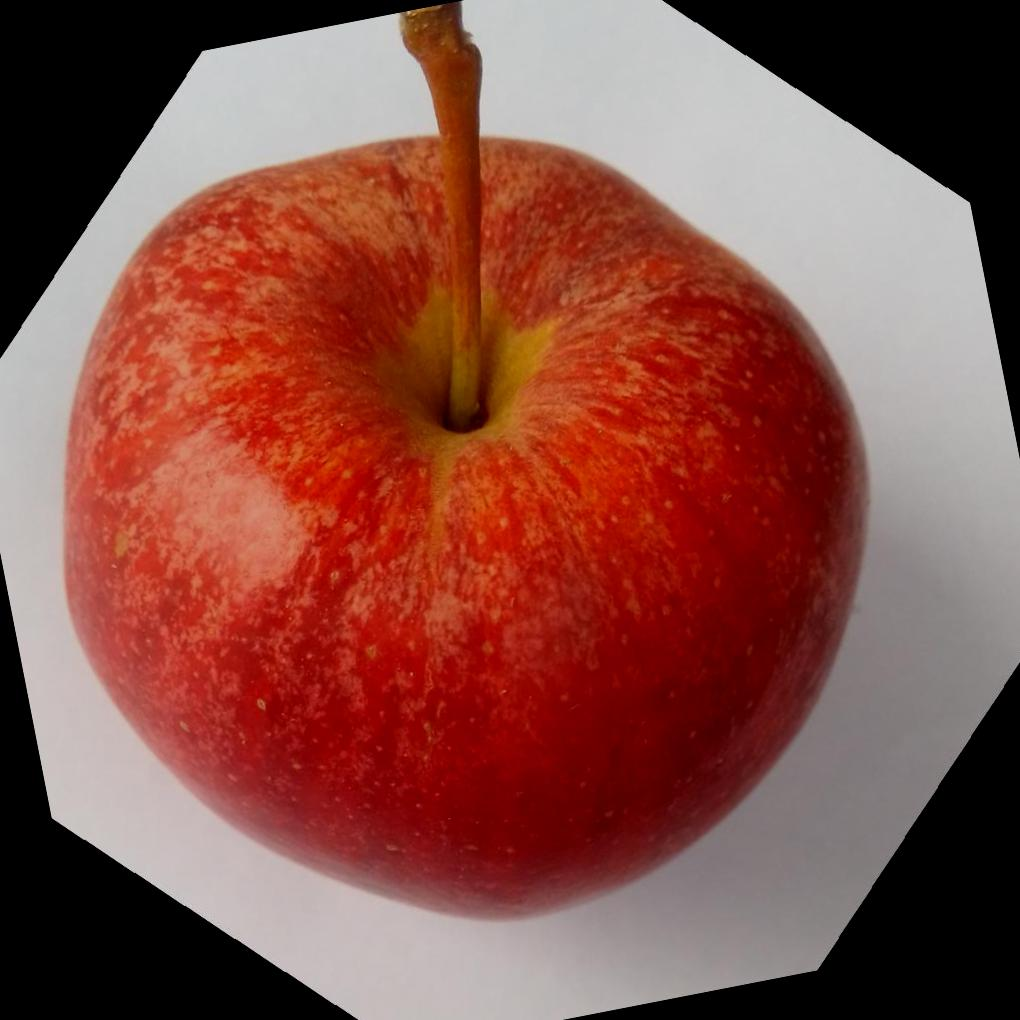FreshGuava: (56, 2, 869, 925)
